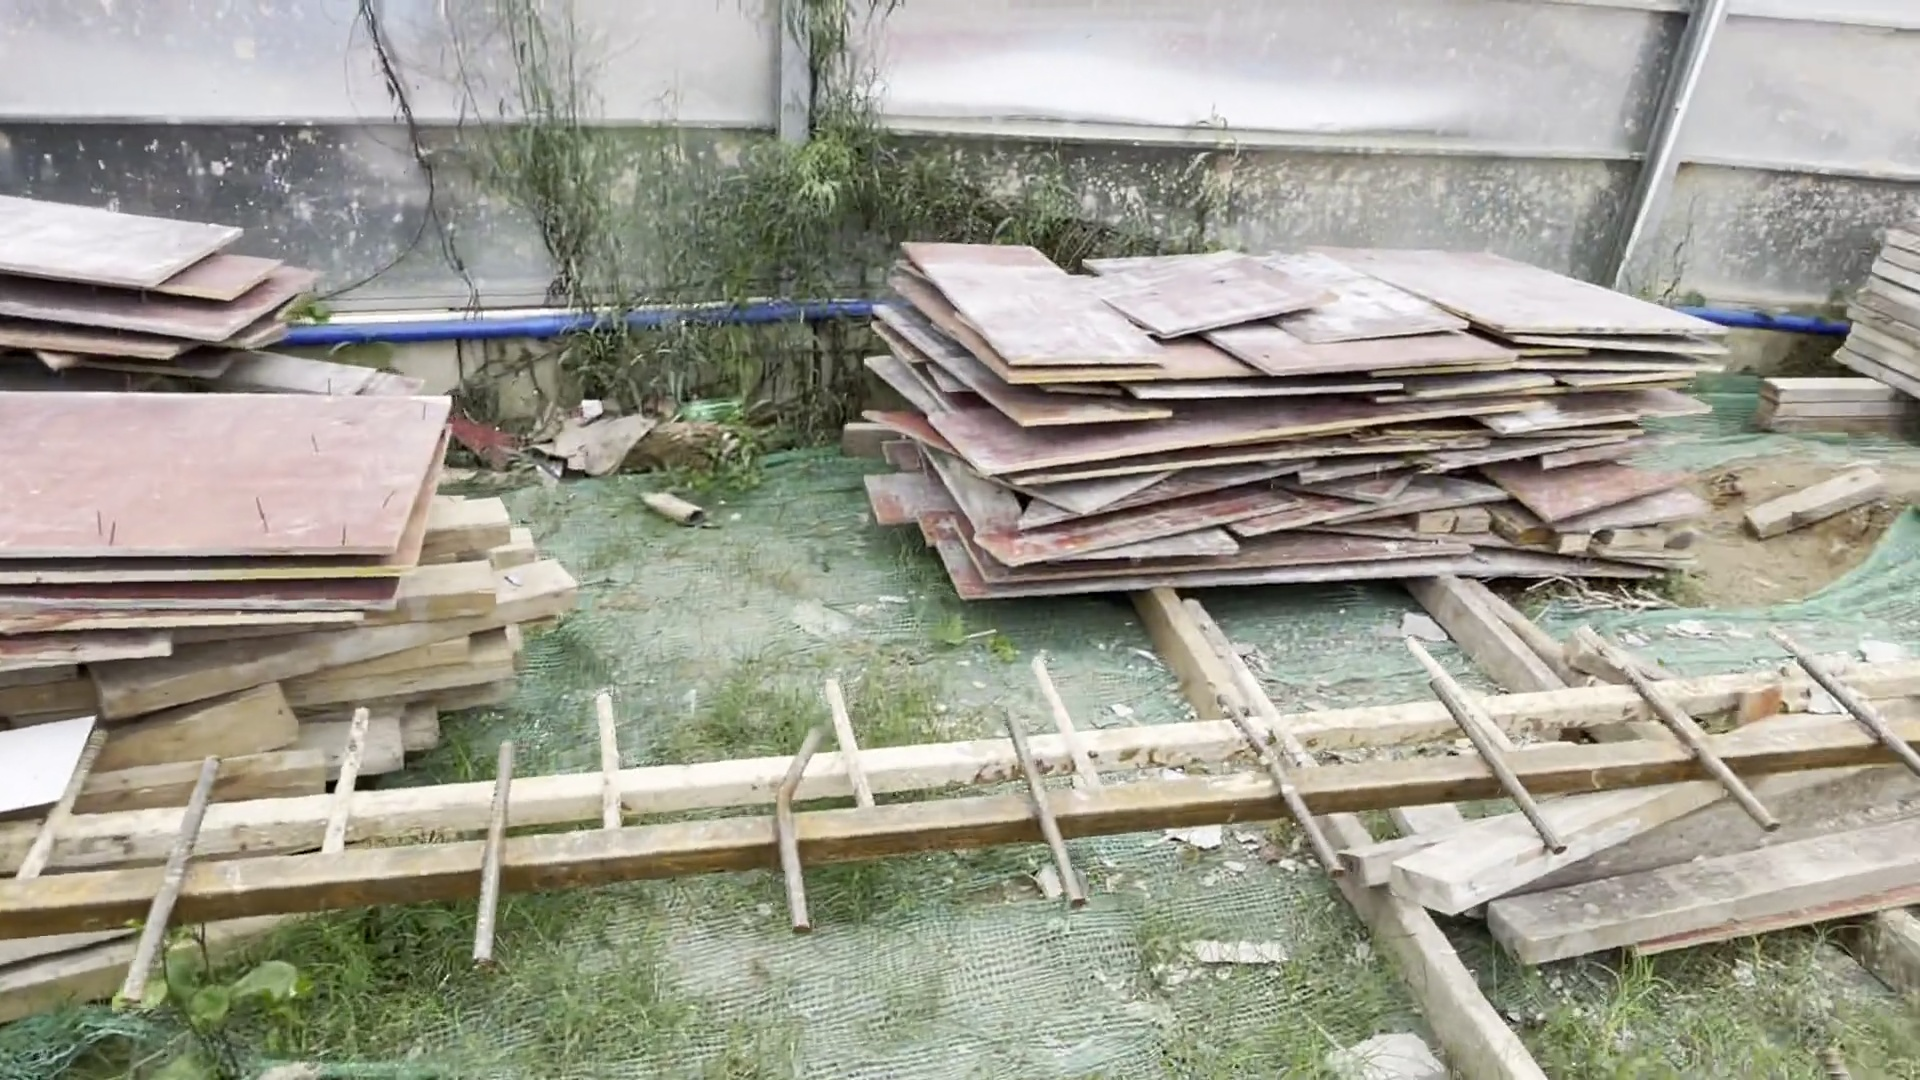board: (851, 229, 1720, 616), (1, 169, 433, 665)
wood: (11, 502, 559, 764), (1778, 218, 1920, 438)
